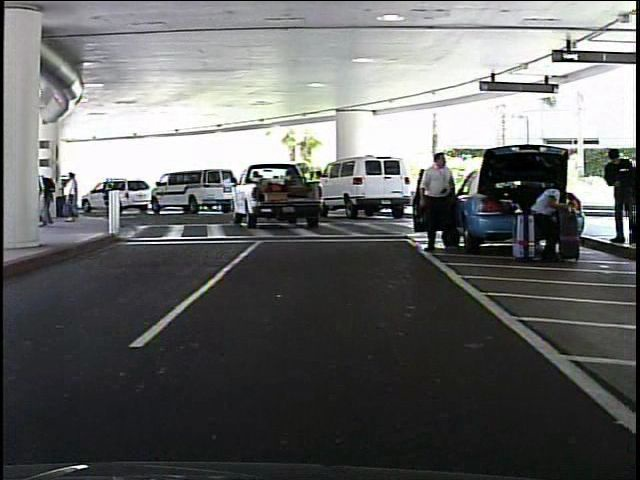person: (417, 149, 463, 252), (526, 173, 570, 259), (600, 143, 636, 248)
